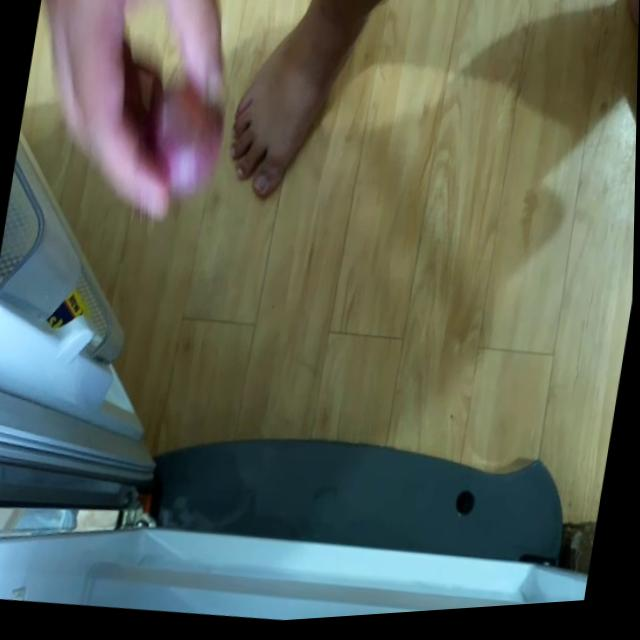onion: (126, 77, 236, 200)
